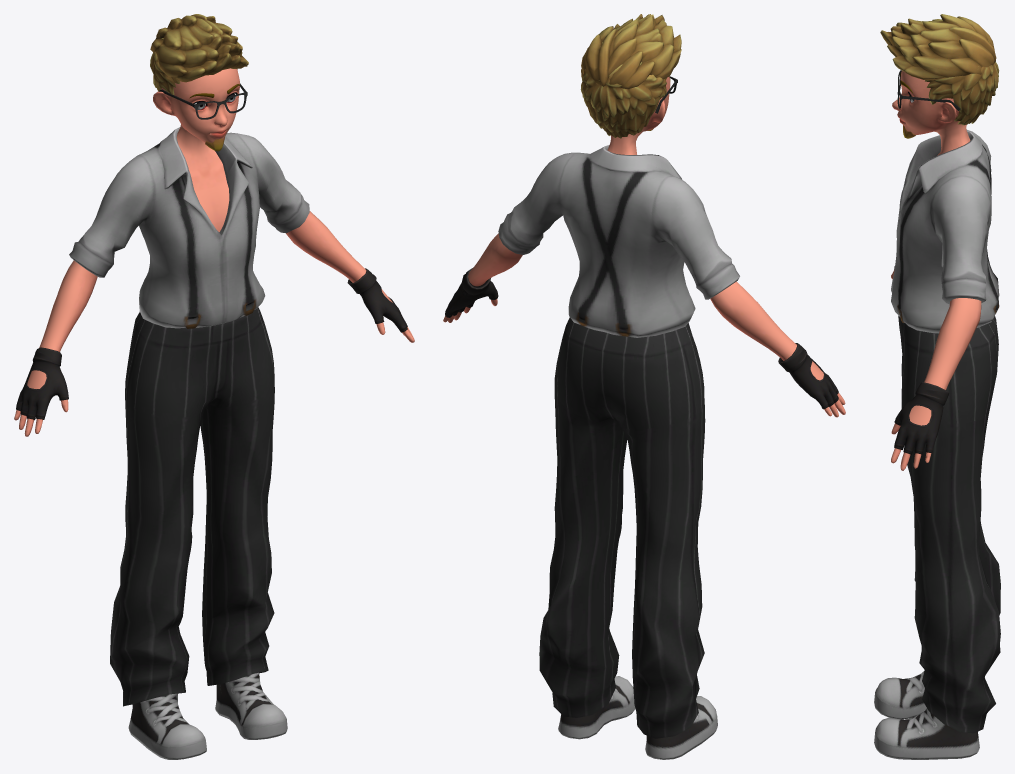
The model's file is StaffDave_Mesh.obj.
3 renders of one model, left to right at view 1: azimuth 30°, elevation 25°; view 2: azimuth 150°, elevation 25°; view 3: azimuth 270°, elevation 25°, orthographic.
Parts seen in each view (by area): view 1: StaffDave_Mesh_0; view 2: StaffDave_Mesh_0; view 3: StaffDave_Mesh_0.
Part boxes in pixels (bbox=[...]): StaffDave_Mesh_0: bbox=[14, 14, 414, 759]; StaffDave_Mesh_0: bbox=[443, 14, 845, 759]; StaffDave_Mesh_0: bbox=[874, 14, 1000, 759].
Size of the model in its own units: 1.06 by 1.84 by 0.2966.
1 material, 1 textured.
